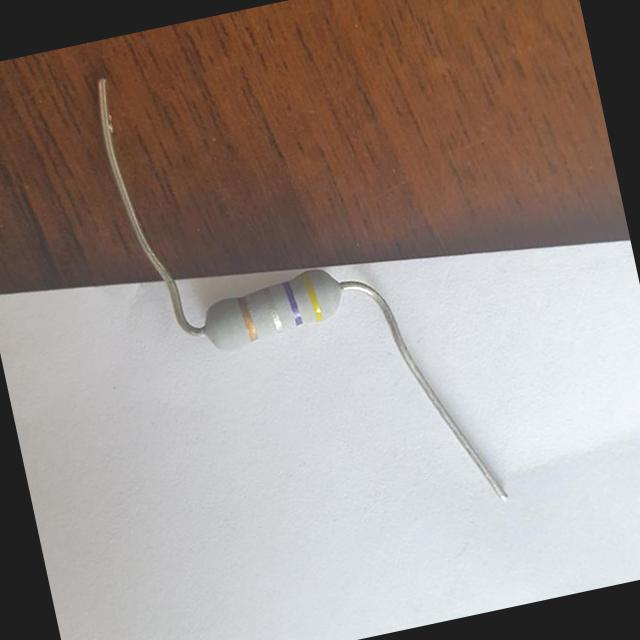Resistor: (207, 270, 339, 349)
gold: (237, 295, 258, 342)
purple: (282, 281, 304, 327)
silver: (262, 286, 283, 334)
yellow: (300, 273, 323, 322)
